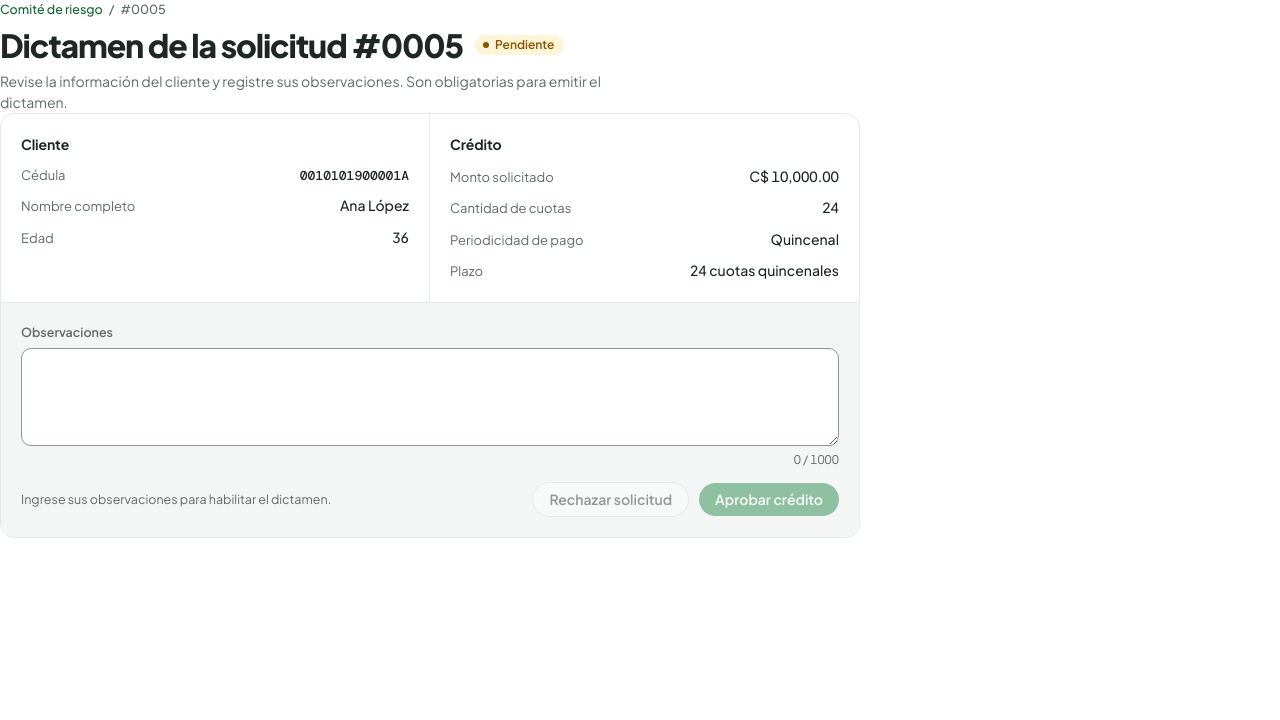
DictamenPage › aprueba con una sola petición aunque se haga doble clic
This screenshot has width=1280, height=720.
In the text box labelled "Observaciones": (430, 396) [21,348,839,446], type "Cumple políticas"
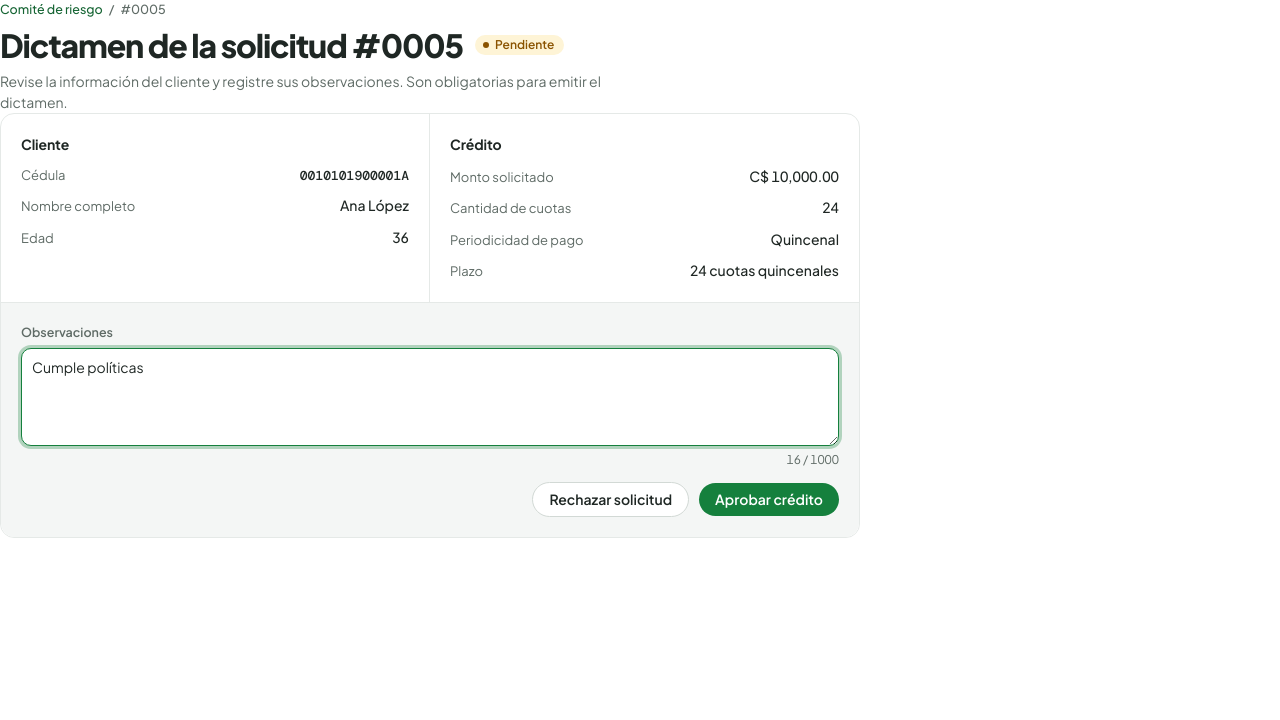
Click the button "Aprobar crédito": (769, 499) [699,482,839,516]
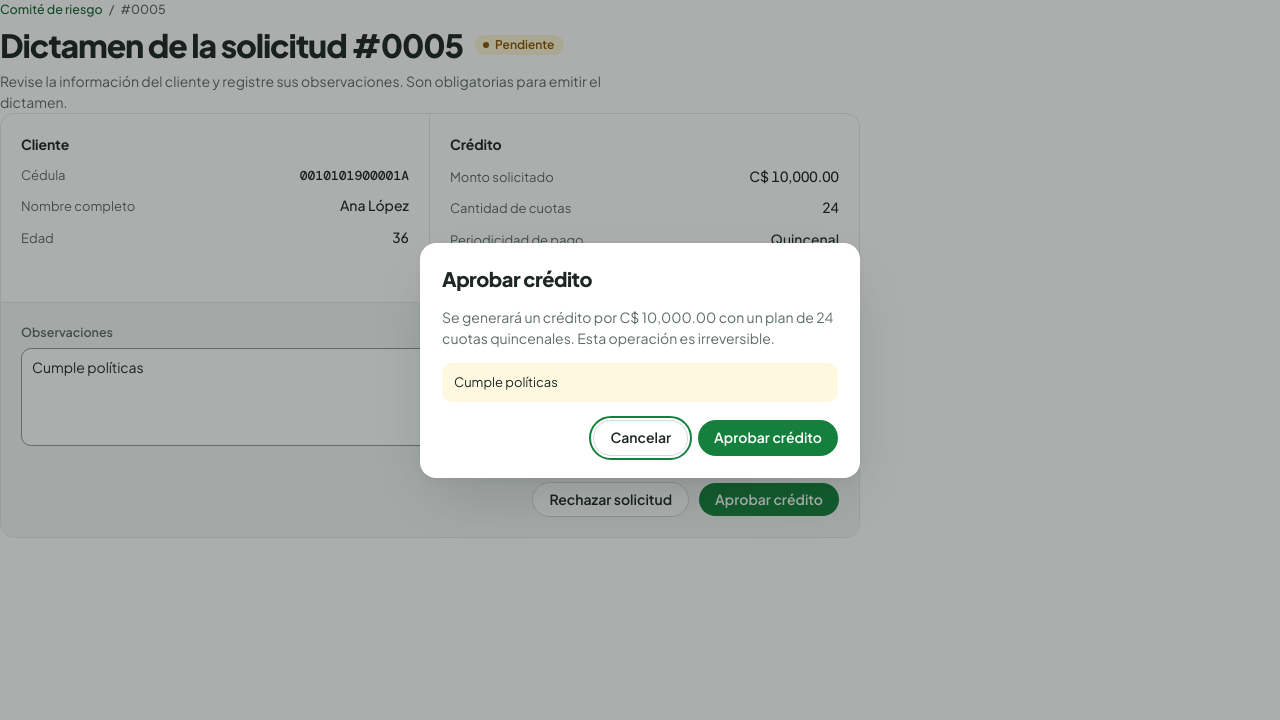
Double-click the button "Aprobar crédito": (768, 438) [698,420,838,456]
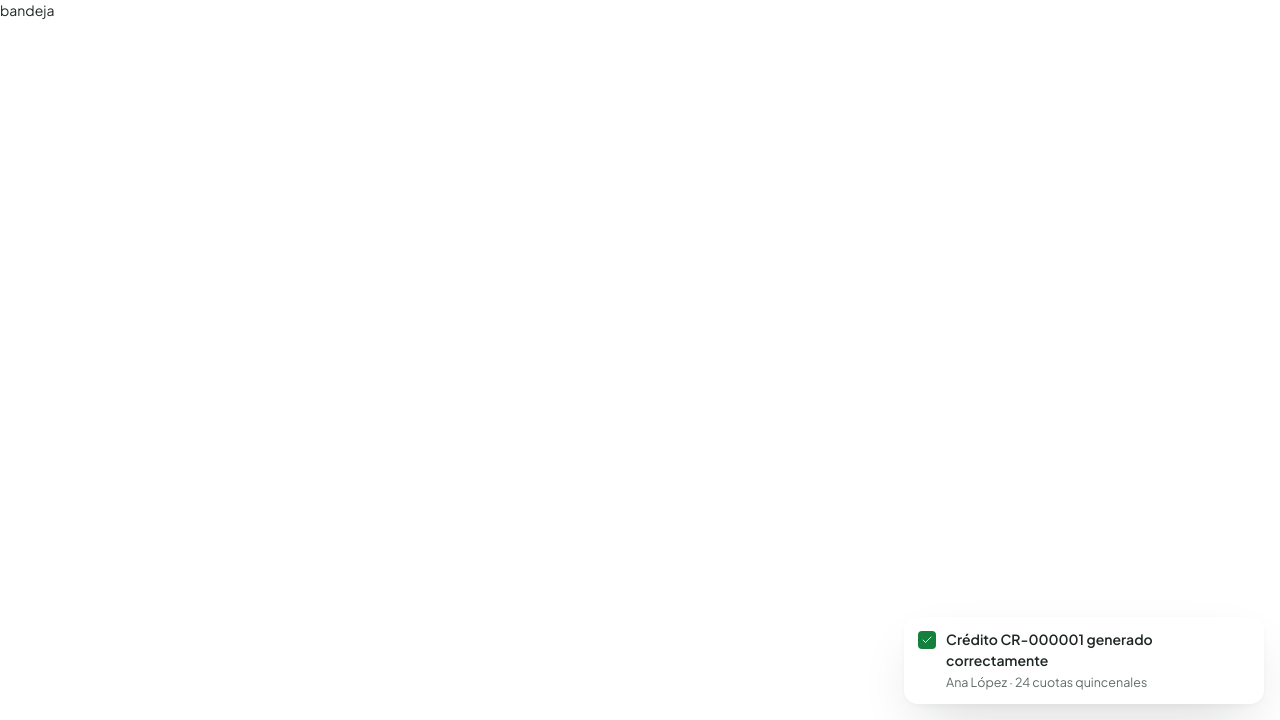
expect the text "bandeja" is shown: met, box [0,1,54,19]
expect the message shows "Crédito CR-000001 generado correctamente": met, box [946,630,1153,669]
